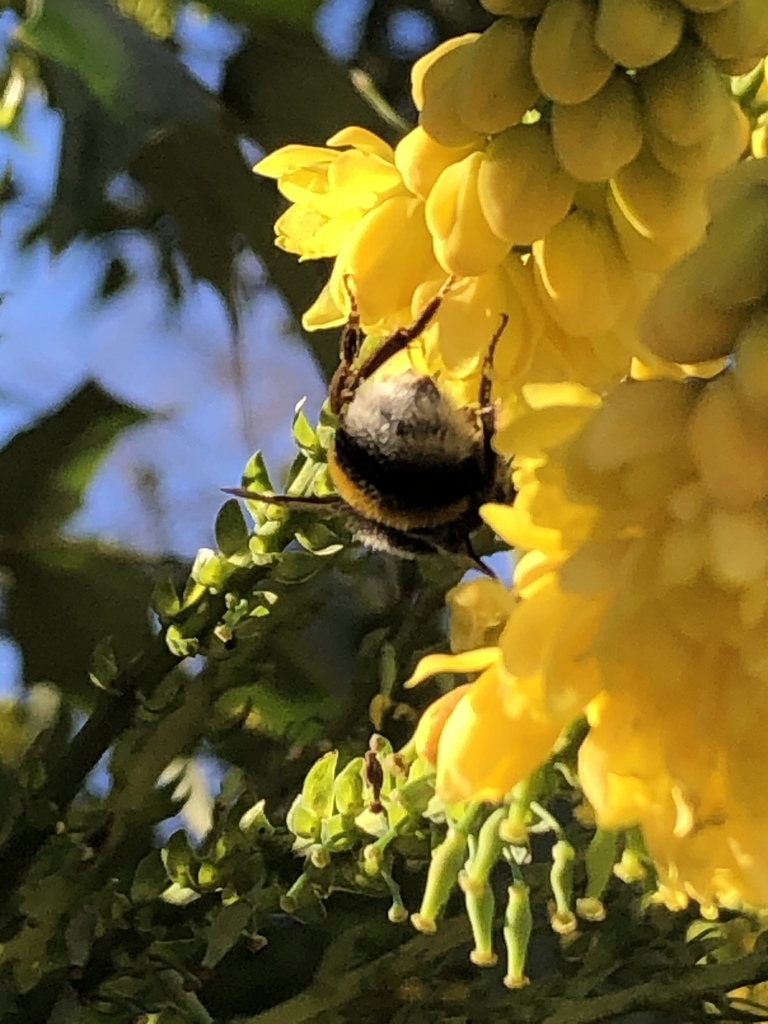bumblebee: (220, 270, 516, 579)
